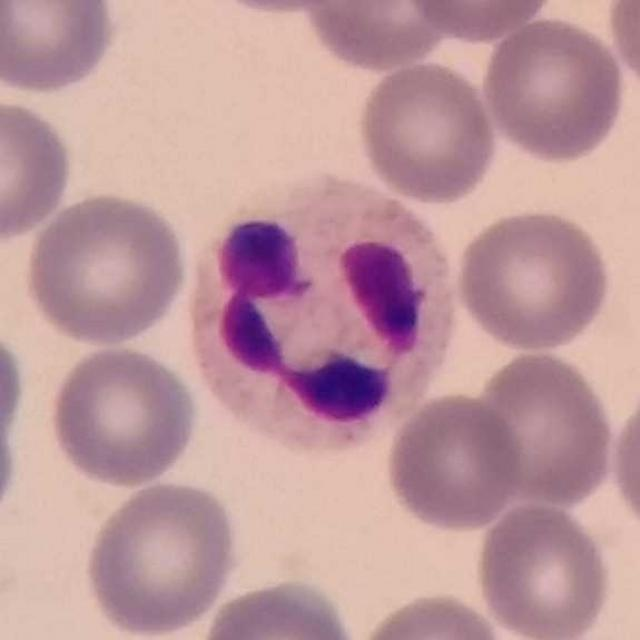Neutrophil: (176, 171, 457, 463)
RBC: (20, 187, 193, 348), (80, 477, 243, 640), (468, 346, 618, 512), (451, 205, 615, 355), (44, 340, 202, 490), (477, 13, 630, 166), (353, 58, 501, 207), (382, 390, 526, 536), (471, 497, 615, 640), (0, 90, 78, 246), (0, 0, 121, 97), (299, 0, 454, 73), (196, 575, 362, 640), (352, 586, 508, 640), (400, 0, 556, 43), (0, 317, 30, 537), (606, 369, 640, 543), (603, 1, 640, 99), (198, 0, 362, 18)
